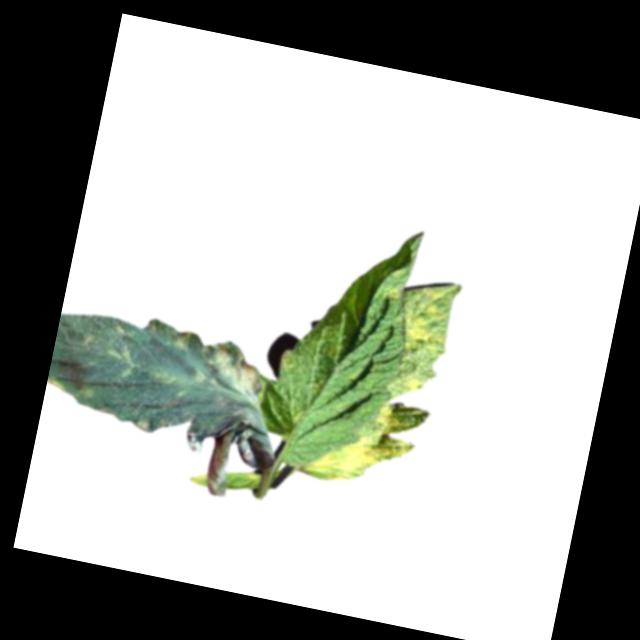Leaf_Mold: (302, 385, 430, 496), (384, 273, 460, 409), (196, 335, 272, 404), (167, 325, 195, 353)
